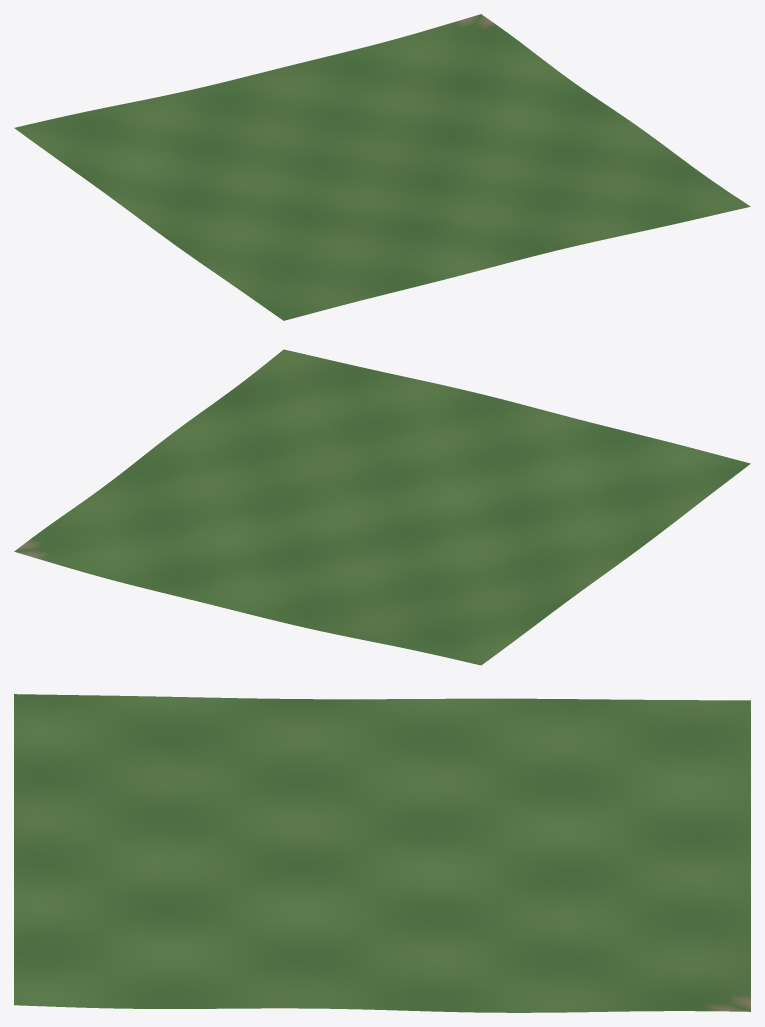
The model's file is chunk_6_4.glb.
3 renders of one model, top to bottom at view 1: azimuth 30°, elevation 25°; view 2: azimuth 150°, elevation 25°; view 3: azimuth 270°, elevation 25°, orthographic. The views are drawn at different scales.
Size of the model in its own units: 512 by 14.35 by 512.
